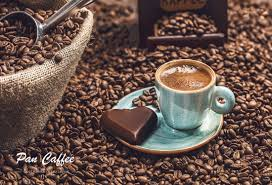kahve: (155, 58, 217, 131)
